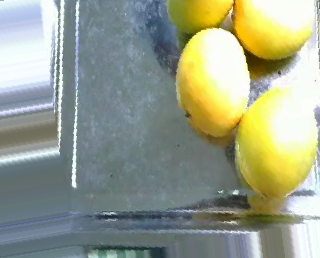Mango: (230, 79, 319, 200), (167, 19, 253, 135), (229, 1, 314, 61), (166, 0, 235, 38)
